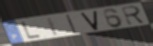6: (103, 8, 125, 29)
I: (45, 17, 61, 38), (65, 14, 78, 34)
L: (21, 21, 43, 40)
R: (120, 5, 148, 26)
V: (80, 10, 100, 32)
